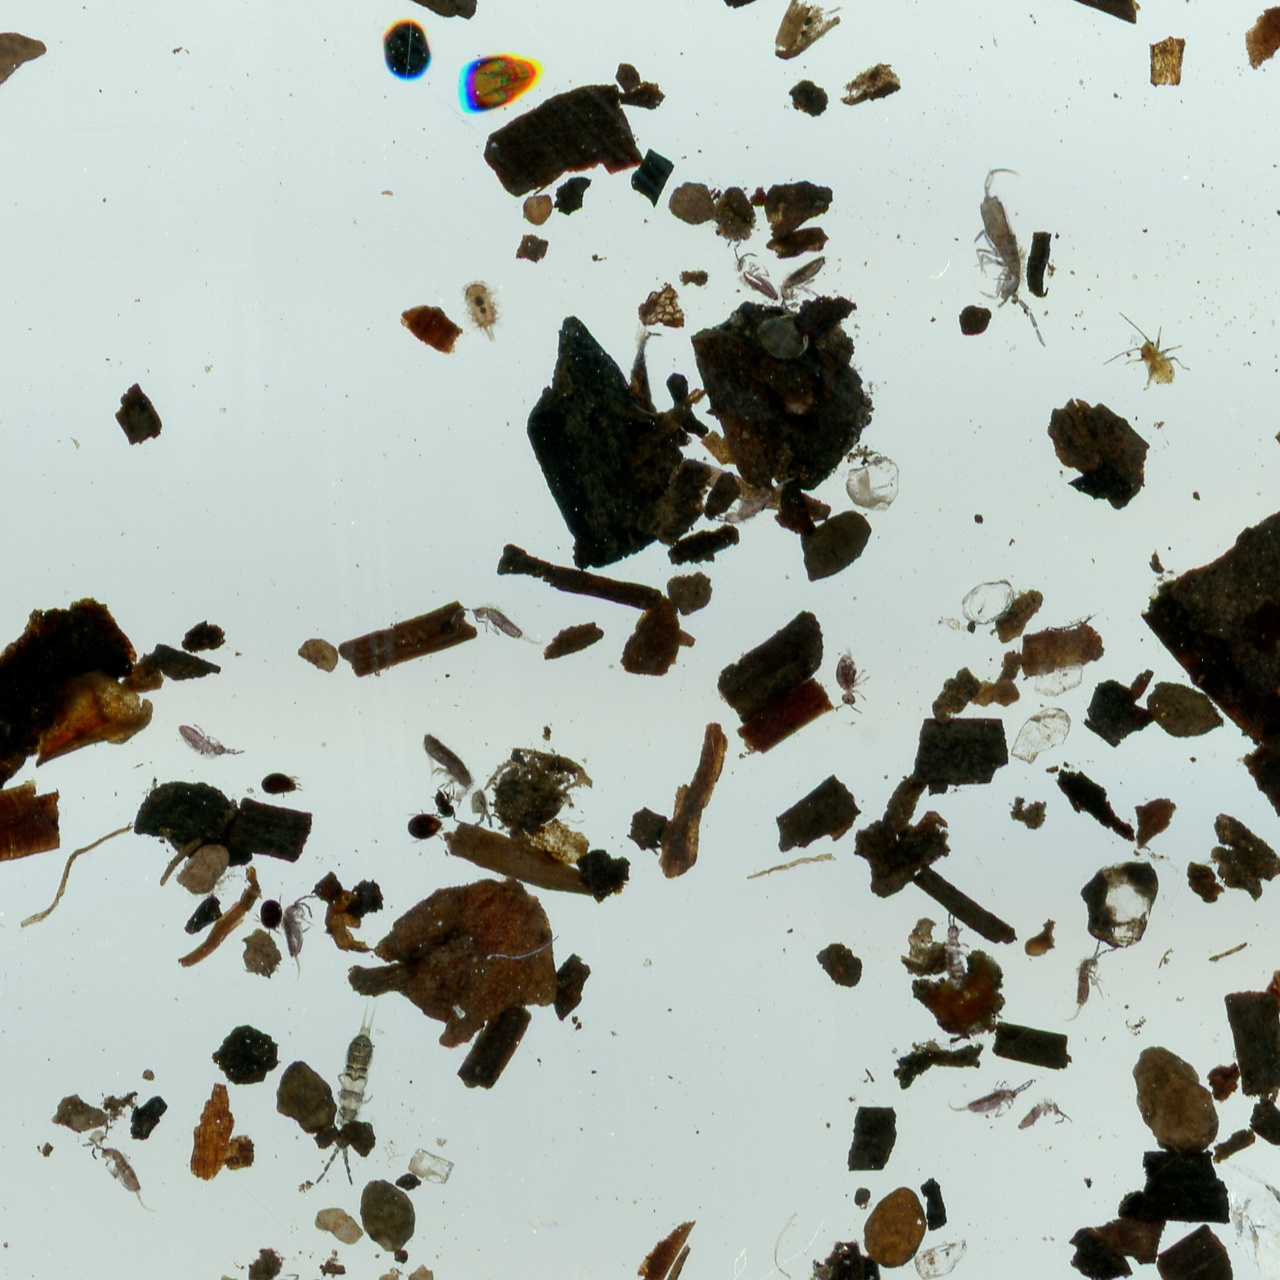arthropod: (969, 165, 1051, 350), (314, 990, 386, 1195), (401, 720, 514, 841), (708, 459, 803, 540), (1101, 311, 1193, 392), (936, 1067, 1045, 1133), (713, 231, 800, 310), (87, 1135, 161, 1217), (1059, 936, 1119, 1033), (451, 272, 515, 351), (461, 596, 548, 648), (280, 886, 318, 986), (776, 253, 827, 316), (176, 721, 248, 763), (833, 644, 872, 715), (941, 911, 974, 994), (1011, 1096, 1079, 1136), (230, 1259, 349, 1280), (425, 778, 474, 825), (407, 807, 447, 845), (259, 770, 306, 799), (250, 898, 285, 936)
